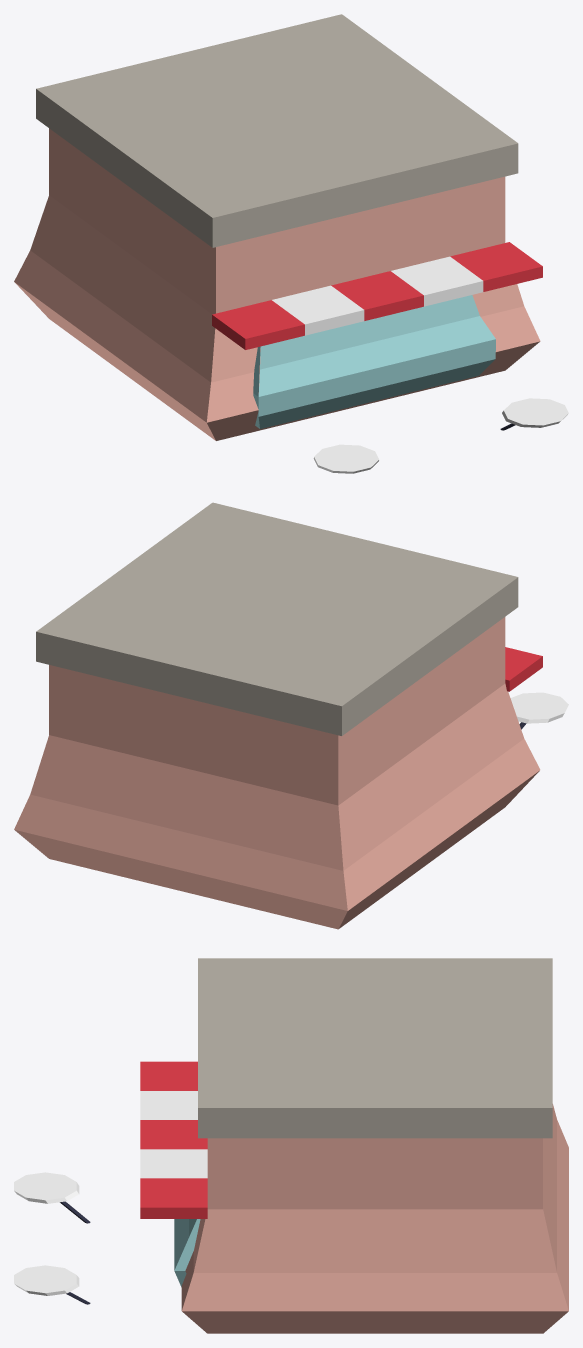
Rendered from cafe.glb.
The picture shows the model from 3 angles, top to bottom: view 1: azimuth 30°, elevation 25°; view 2: azimuth 150°, elevation 25°; view 3: azimuth 270°, elevation 25°; orthographic projection.
Parts seen in each view (by area): view 1: cafe_roof_flat, cafe_wall_pink, cafe_glass, cafe_white, cafe_red; view 2: cafe_wall_pink, cafe_roof_flat, cafe_white, cafe_red; view 3: cafe_wall_pink, cafe_roof_flat, cafe_white, cafe_red, cafe_glass.
Boxes of the visible parts, box(x1,y1,x2,y2) form: cafe_roof_flat: box(36, 14, 518, 247); cafe_wall_pink: box(14, 128, 540, 440); cafe_glass: box(253, 295, 495, 428); cafe_white: box(272, 256, 568, 473); cafe_red: box(212, 242, 542, 349); cafe_wall_pink: box(14, 617, 540, 929); cafe_roof_flat: box(36, 502, 518, 735); cafe_white: box(510, 692, 568, 723); cafe_red: box(505, 647, 542, 691); cafe_wall_pink: box(181, 1104, 568, 1333); cafe_roof_flat: box(198, 958, 552, 1138); cafe_white: box(14, 1091, 207, 1295); cafe_red: box(140, 1061, 207, 1218); cafe_glass: box(174, 1219, 200, 1287).
Size of the model in its own units: 8.4 by 5.5 by 12.04.
